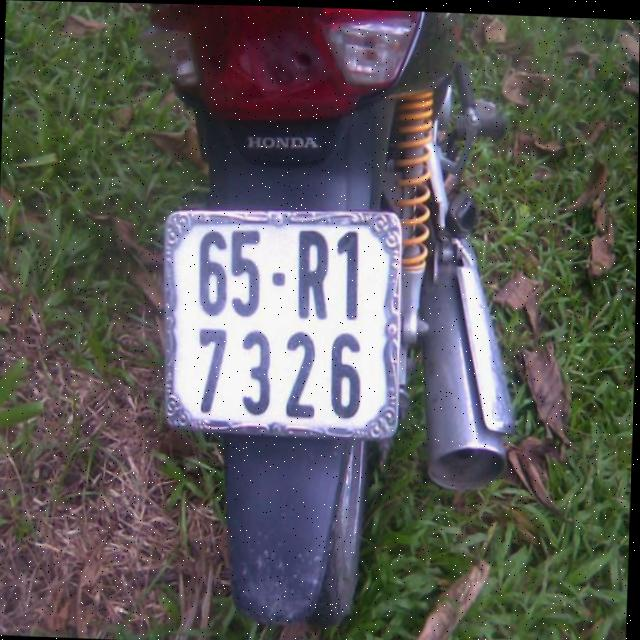motorcycle: (107, 3, 535, 640)
plate: (149, 199, 413, 447)
